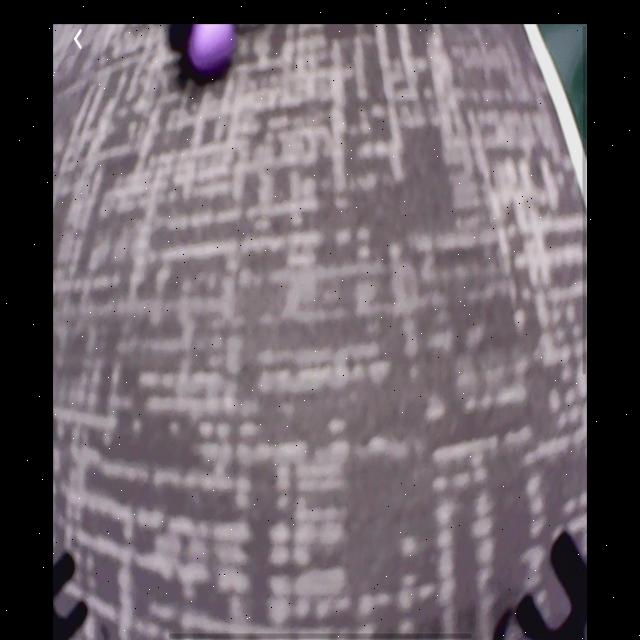ball: (186, 24, 235, 68)
